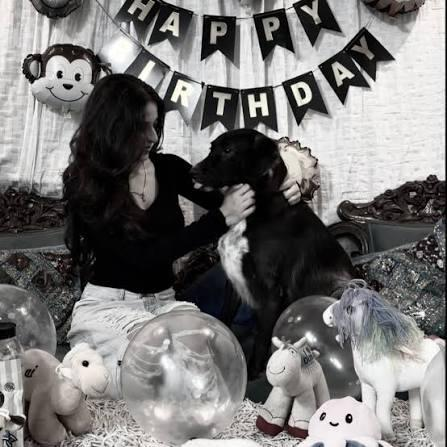adult_dog: (191, 128, 354, 400)
